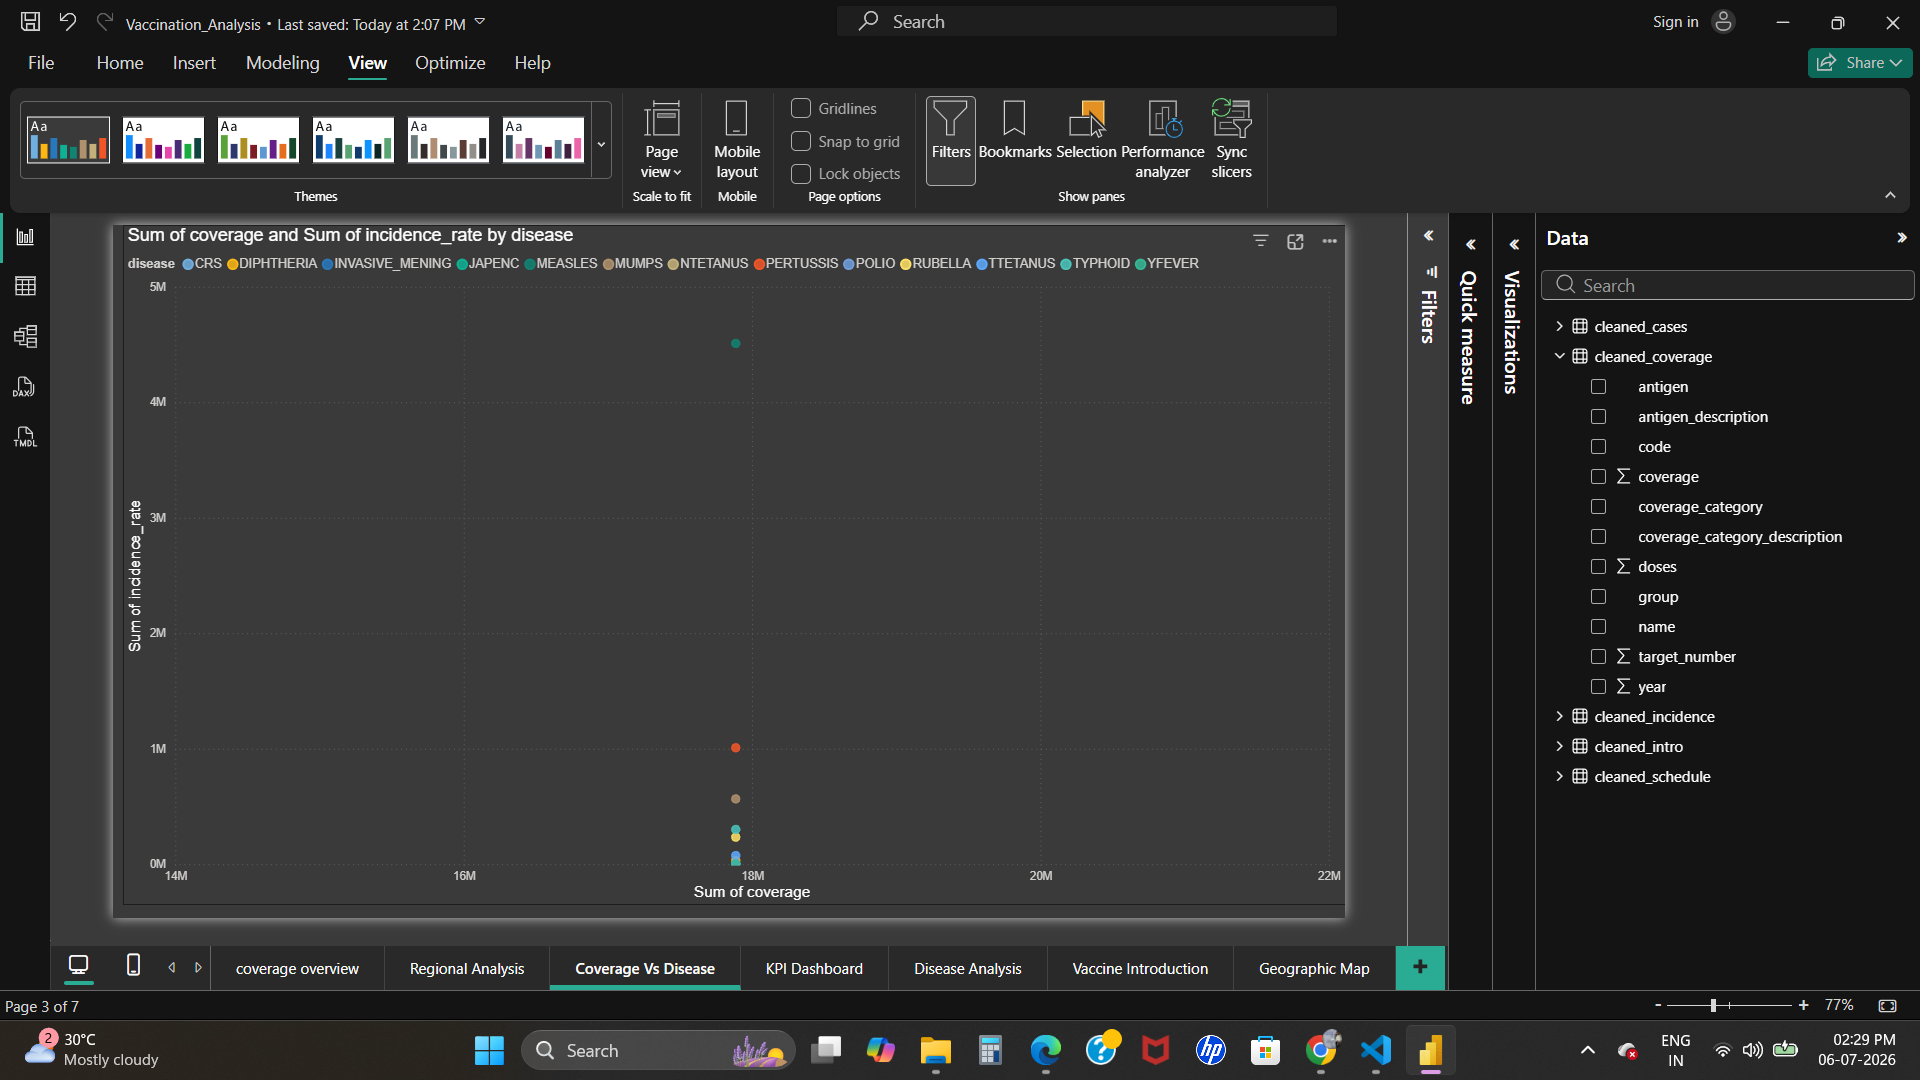

What the dashboard file says about the page in this screenshot:
{"tool":"powerbi","page":{"name":"Coverage Vs Disease","canvas":[1280,720],"ordinal":2},"visuals":[{"type":"scatterChart","fields":{"X":["Sum(cleaned_coverage.coverage)"],"Y":["Sum(cleaned_incidence.incidence_rate)"],"Series":["cleaned_incidence.disease"]},"box":[10,0,1270,706.7],"z":0}]}

Visuals, with their boxes on the page's 1280x720 design canvas (x1, y1, x2, y2). These are canvas units, not pixel positions in the 1920x1080 screenshot, which may show the page scaled, cropped or inside an application window:
scatterChart - Sum(cleaned_coverage.coverage) x Sum(cleaned_incidence.incidence_rate): detection(10, 0, 1280, 707)
